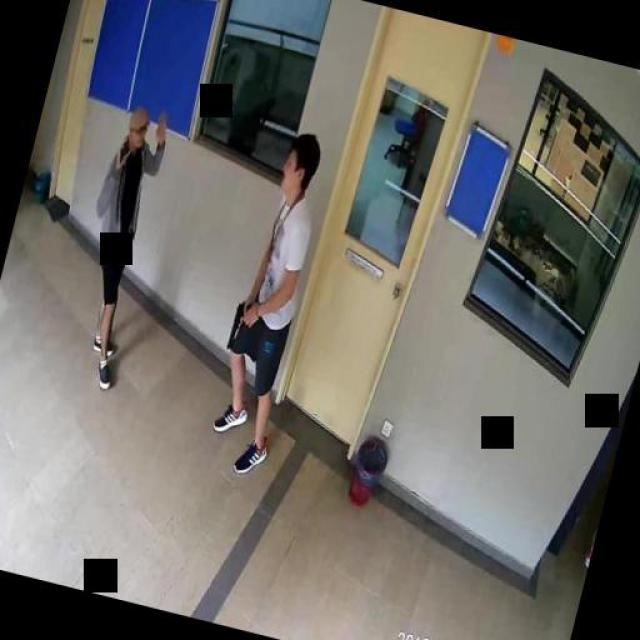gun: (226, 296, 256, 352)
